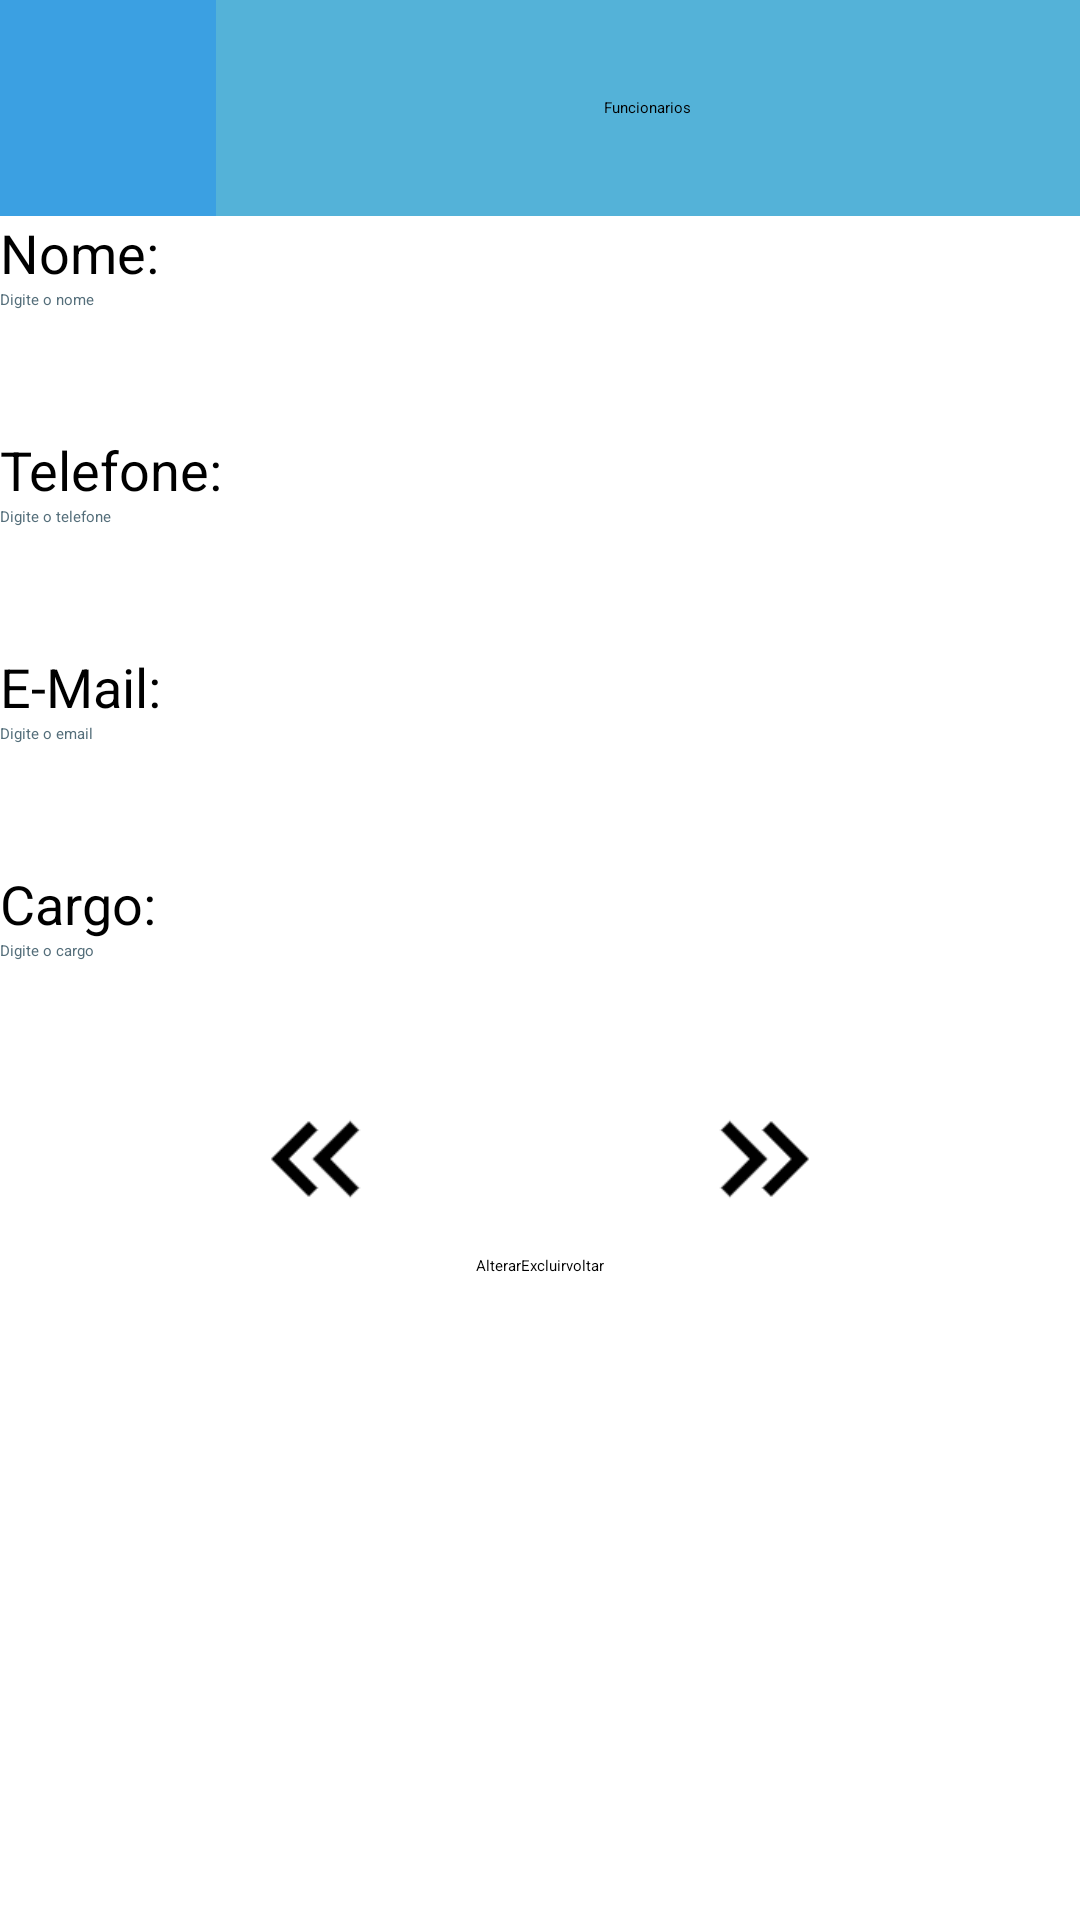

Screen size 1080px x 1920px. Icon name, then its box in pixels as (x1, y1, x2, y2):
botao primeiro: (271, 1120, 360, 1198)
botao ultimo: (720, 1120, 809, 1198)
